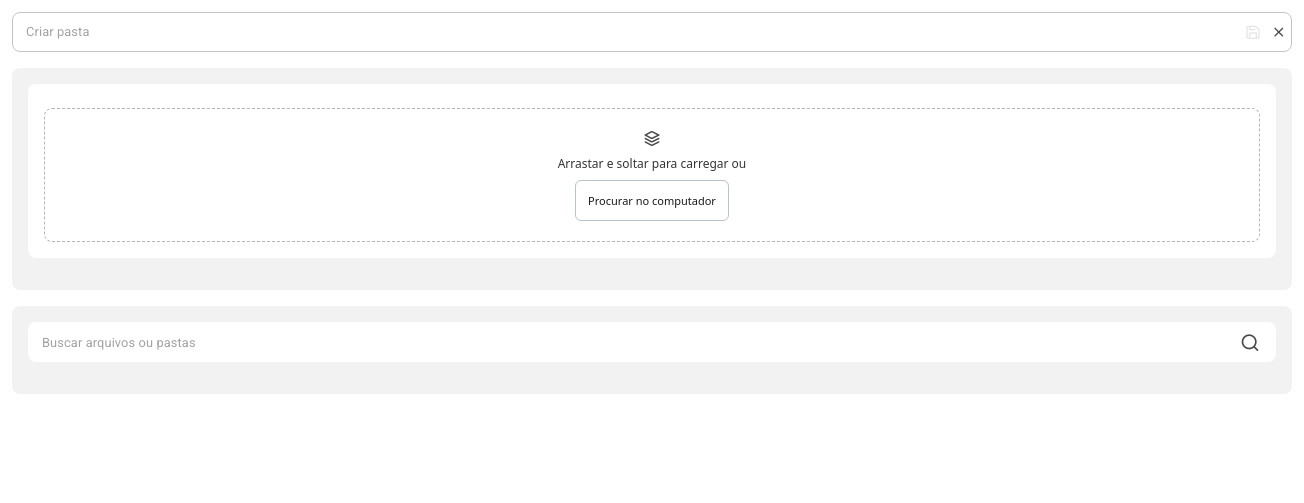
it: <FileUpload /> › Deve exibir a mensagem "Nenhum Resultado Encontrado" quando a busca não retornar resultados
In the search field with placeholder "Buscar arquivos ou pastas": (626,342) 28,316 -> 1224,368, type "ArquivoInexistente"
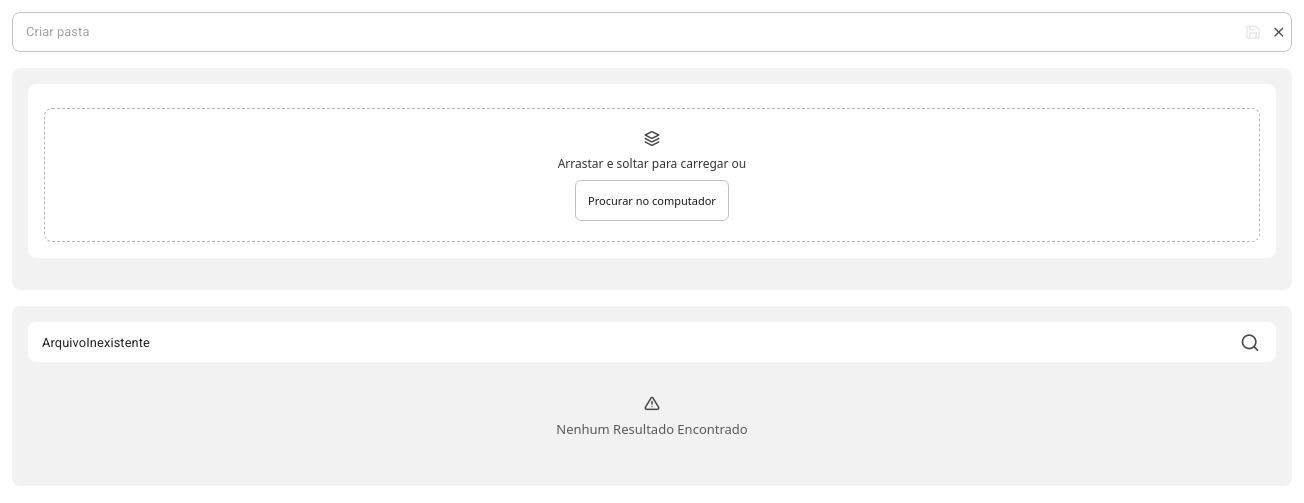
Expected: the text "Nenhum Resultado Encontrado" is shown, 556,420 -> 748,438
